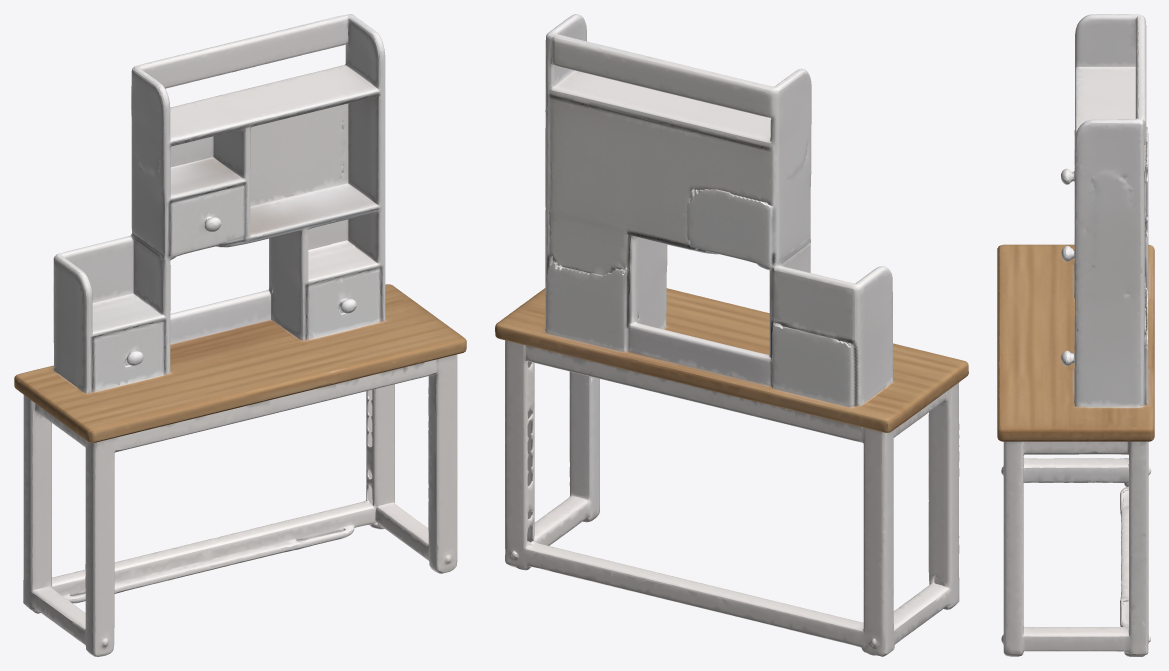
File: item_7b7976bf.glb
3 renders of one model, left to right at view 1: azimuth 30°, elevation 25°; view 2: azimuth 150°, elevation 25°; view 3: azimuth 270°, elevation 25°, orthographic. The views are drawn at different scales.
Parts seen in each view (by area): view 1: world; view 2: world; view 3: world.
Boxes of the visible parts, x1,y1,x2,y2 form: world: [14, 14, 466, 656]; world: [495, 14, 968, 656]; world: [997, 14, 1154, 656].
Bounding box in the file's own units: 1.07 × 1.4 × 0.3845.
Materials: 1 (1 with a texture image).
